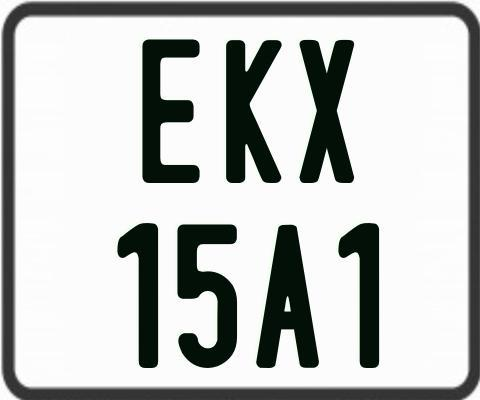1: (115, 221, 162, 369), (337, 222, 380, 369)
5: (174, 221, 239, 371)
A: (254, 223, 319, 371)
E: (140, 38, 202, 188)
K: (225, 38, 285, 187)
X: (298, 38, 356, 186)
